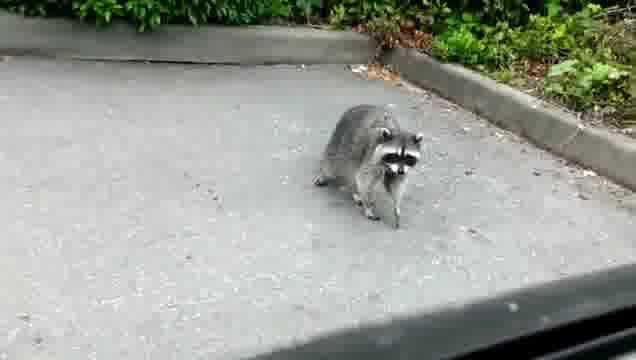raccoon: (312, 101, 428, 237)
